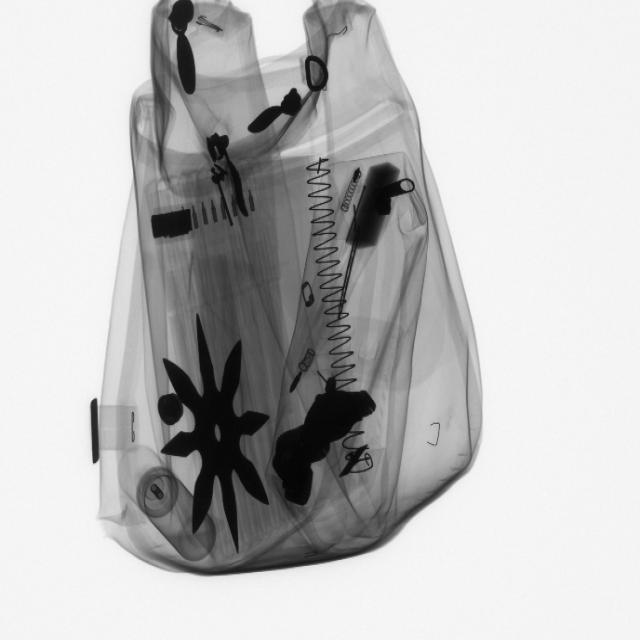SHURIKEN: (162, 313, 275, 555)
